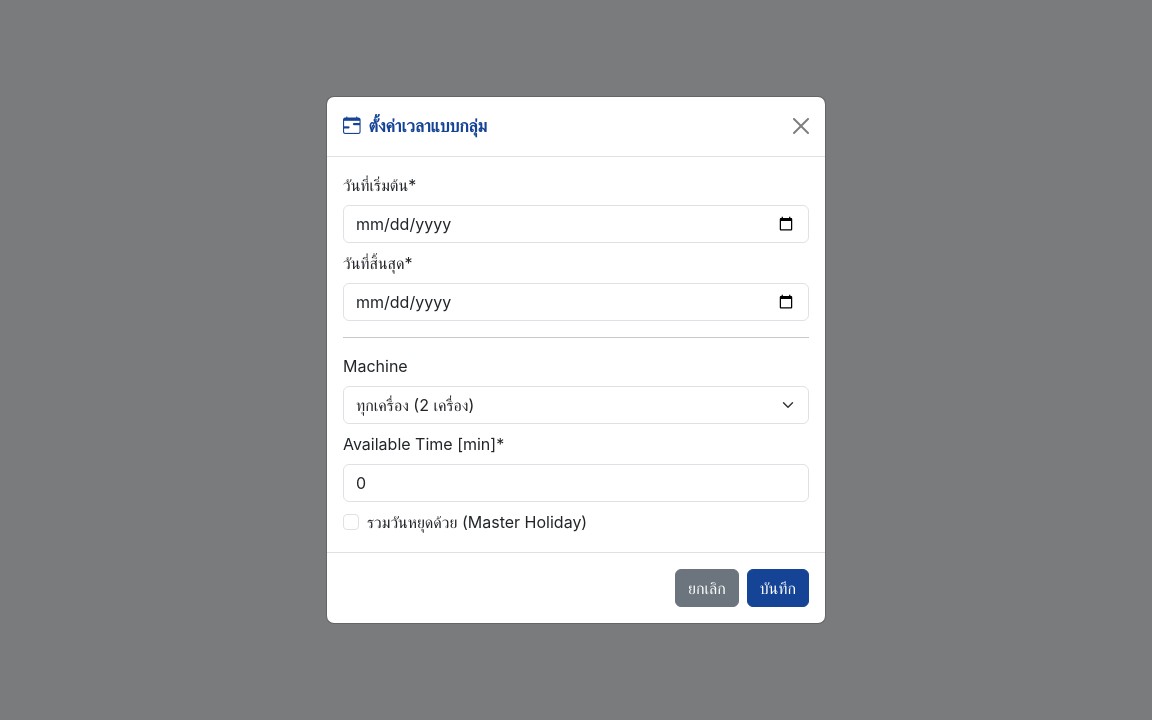
Test: พรีวิวจำนวนช่อง › ติ๊ก "รวมวันหยุด" แล้วจำนวนเพิ่ม
Type "2026-08-11" into the date field labelled "วันที่เริ่มต้น*" at x=576, y=224, box [343,205,809,243]
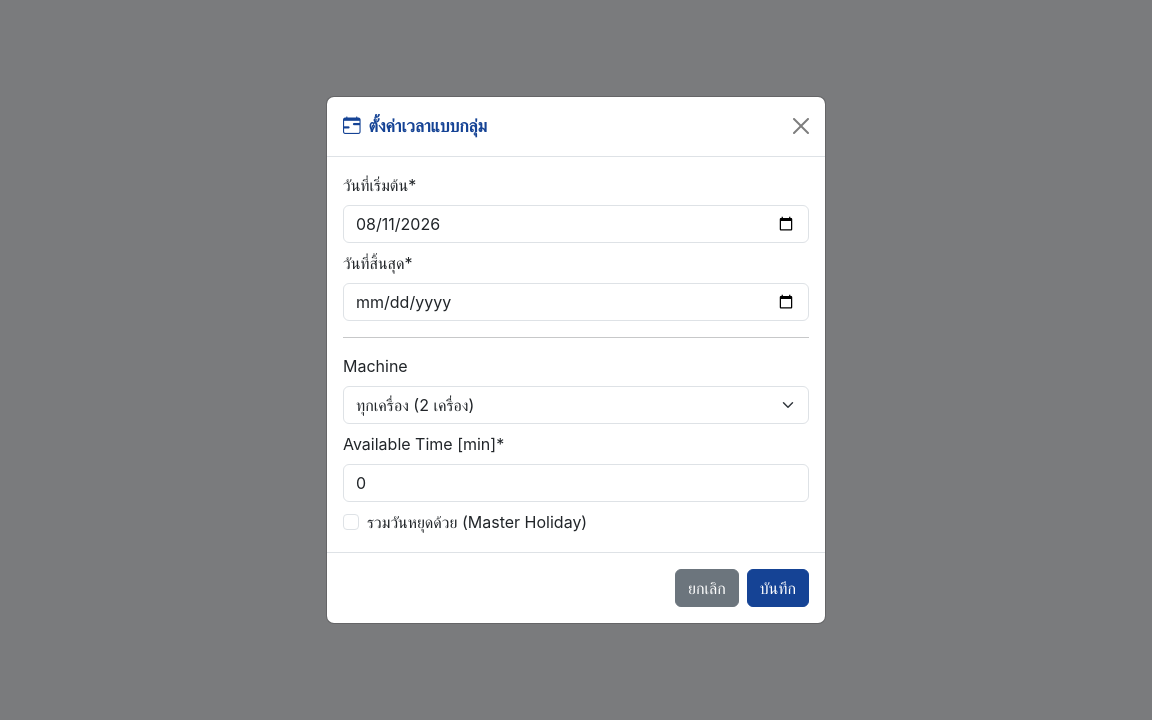
Type "2026-08-13" into the date field labelled "วันที่สิ้นสุด*" at x=576, y=302, box [343,283,809,321]
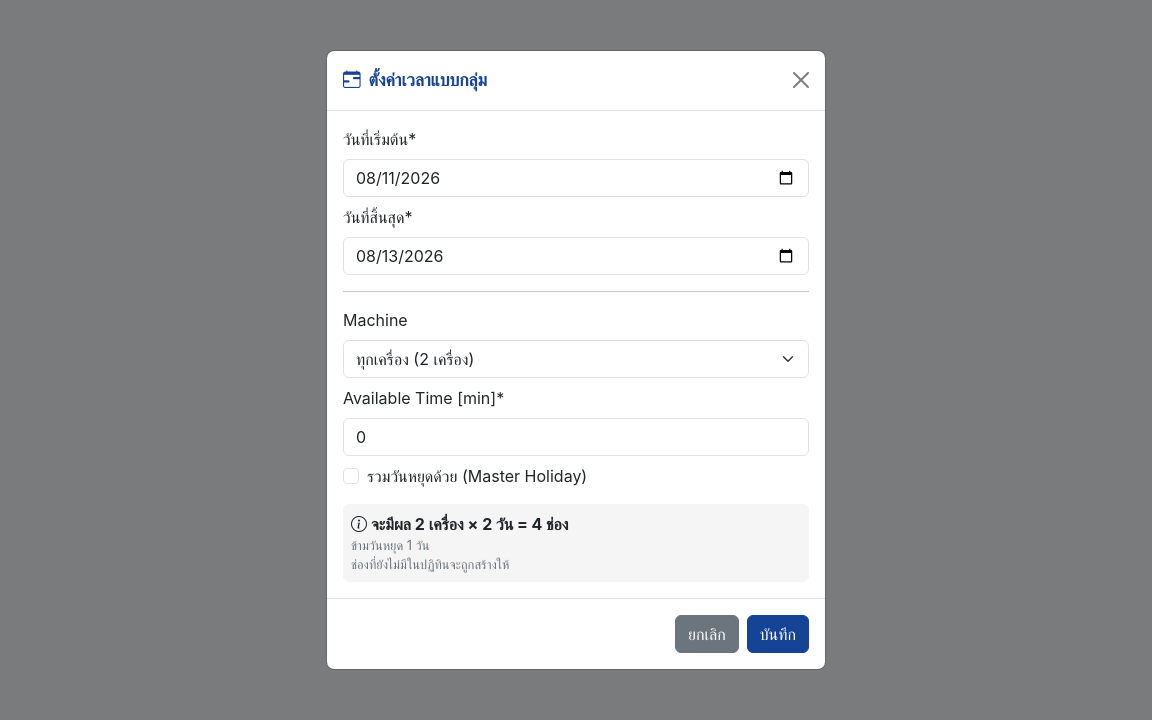
Click the checkbox labelled "รวมวันหยุดด้วย (Master Holiday)" at x=351, y=476, box [343,468,359,484]
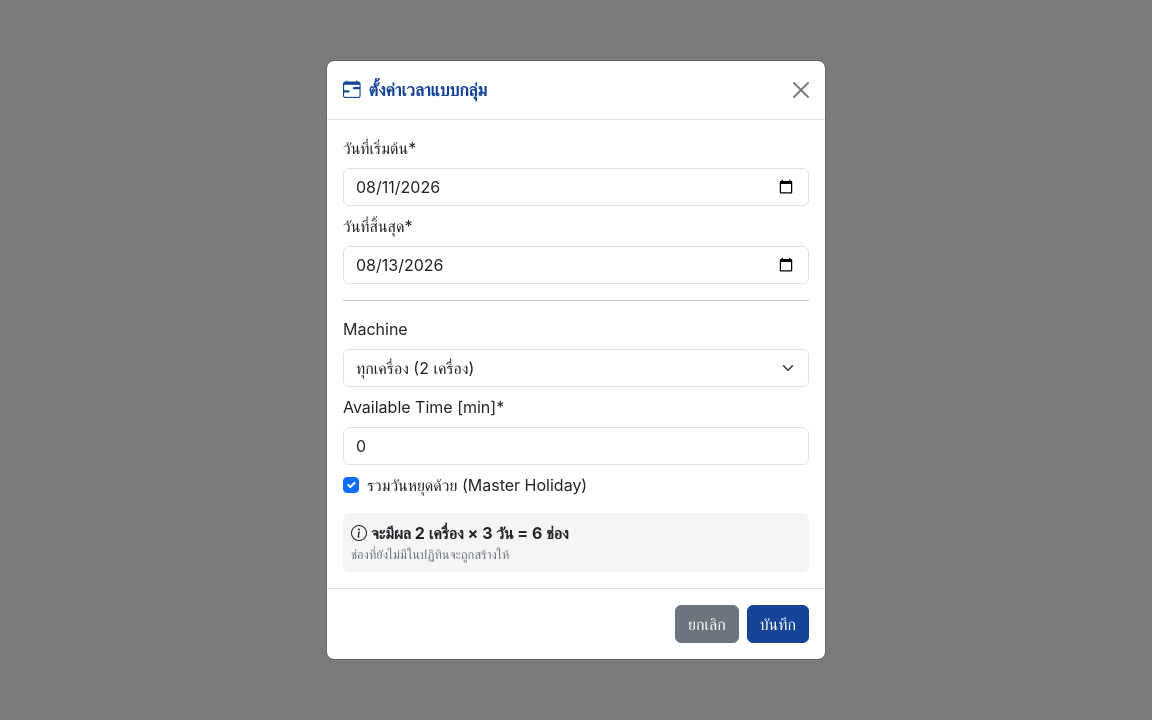
Result: the text "จะมีผล 2 เครื่อง × 3 วัน = 6 ช่อง" is shown at [351,523,569,543]
Result: the text "ข้ามวันหยุด" is gone
